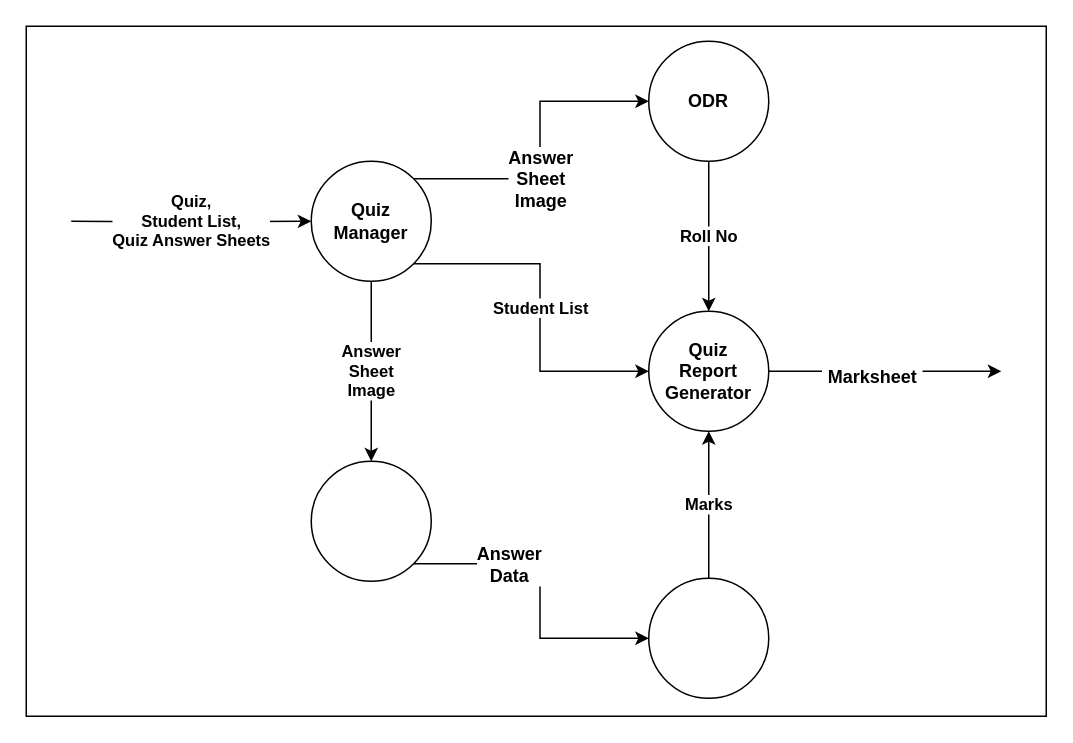
Some shapes in this 1073 by 743 pixel diagram are drawn without their labels. The shapes that lost their labels are listed below. From the top down, each one's box as (x1, y1, x2, y2) in pixels, then its label:
(310, 460, 431, 581): Tick Finder
(647, 577, 769, 698): Marking Module
